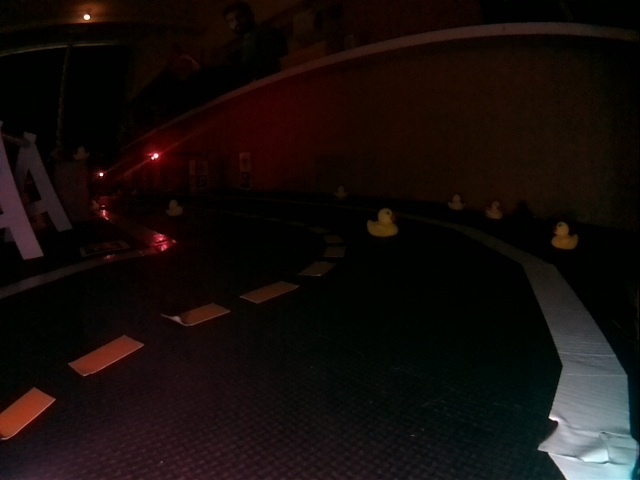Duckie: (367, 208, 397, 236), (552, 223, 578, 249), (486, 202, 501, 218), (166, 200, 182, 215), (449, 195, 465, 209), (335, 187, 347, 197)
QR code: (80, 241, 129, 256), (239, 171, 250, 189)
